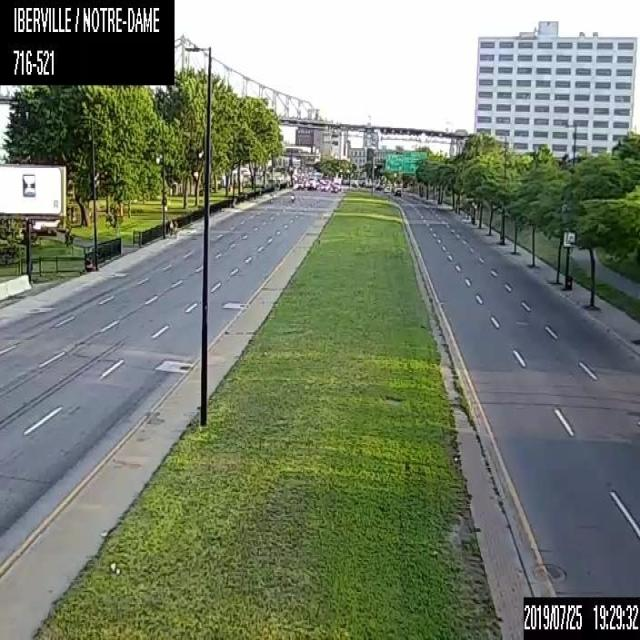pedestrian: (169, 219, 173, 234), (173, 220, 177, 234)
vehicle: (306, 177, 316, 189), (393, 185, 401, 196), (320, 182, 328, 192), (290, 189, 295, 201), (296, 180, 303, 188)
